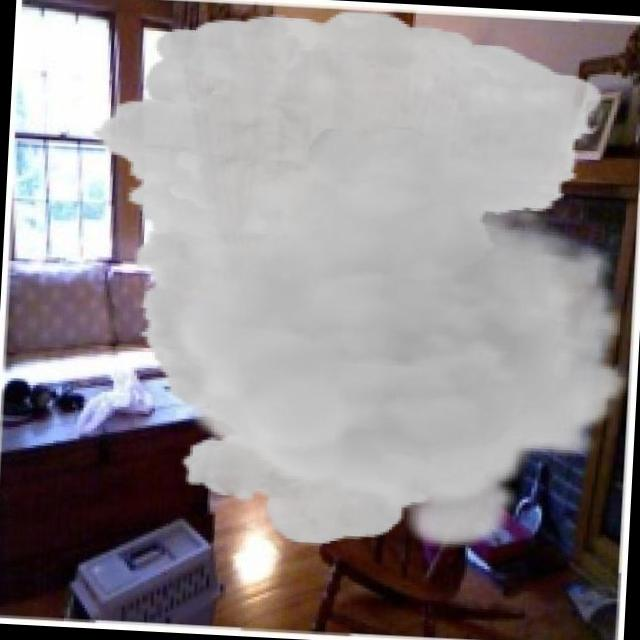Smoke: (69, 0, 640, 562)
